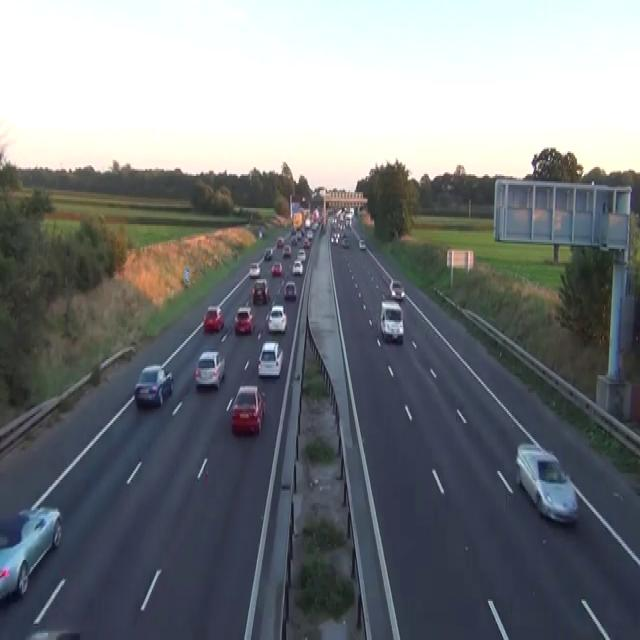Car: (0, 505, 62, 604), (515, 441, 578, 524), (230, 384, 265, 436), (133, 365, 173, 407), (0, 628, 135, 638), (194, 350, 225, 390), (330, 206, 354, 249), (257, 339, 283, 377), (266, 304, 287, 332), (203, 304, 224, 331), (233, 306, 253, 334), (21, 630, 81, 638), (252, 277, 269, 304), (389, 279, 404, 301), (284, 281, 297, 299), (248, 262, 260, 278), (292, 260, 303, 276), (271, 262, 282, 276), (277, 278, 286, 294), (271, 304, 284, 315), (296, 247, 306, 261), (183, 267, 190, 286), (264, 247, 273, 260), (282, 244, 291, 256), (330, 233, 339, 243), (358, 238, 366, 249), (276, 237, 284, 247), (341, 238, 349, 247), (302, 238, 310, 247), (233, 204, 240, 213), (304, 217, 310, 227), (291, 235, 297, 245), (306, 230, 313, 238), (296, 230, 302, 238), (258, 228, 262, 238), (291, 226, 296, 234)
Truck: (380, 299, 404, 343)
